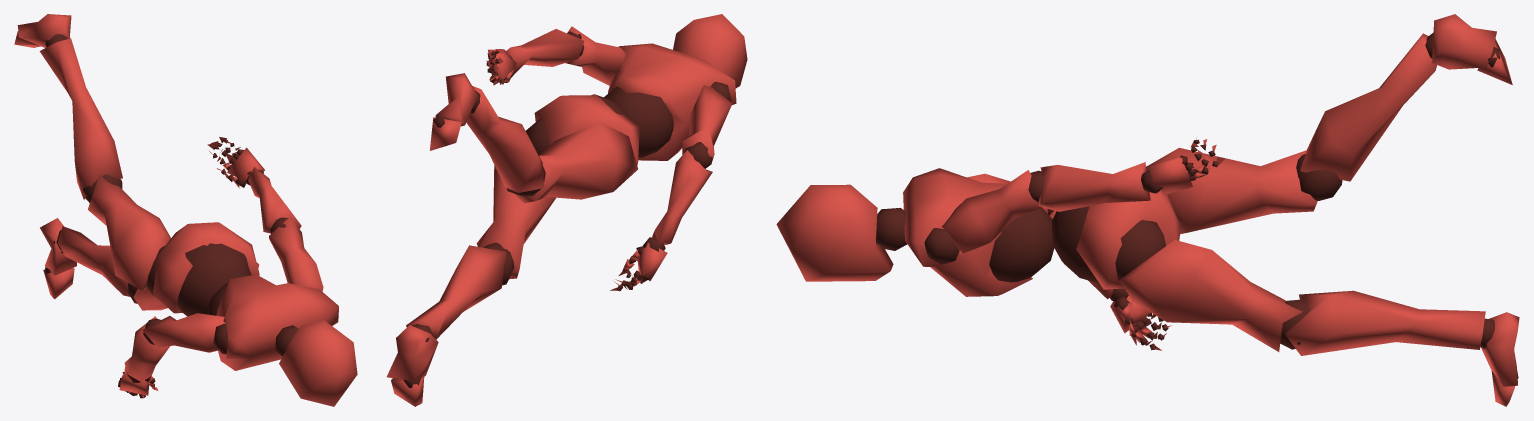
The picture shows the model from 3 angles, left to right: view 1: azimuth 30°, elevation 25°; view 2: azimuth 150°, elevation 25°; view 3: azimuth 270°, elevation 25°; orthographic projection. The views are drawn at different scales.
Visible parts, largest first — view 1: Beta_Surface, Beta_Joints; view 2: Beta_Surface, Beta_Joints; view 3: Beta_Surface, Beta_Joints.
Part boxes in pixels (x1,y1,x2,y2): Beta_Surface: (14, 14, 357, 406); Beta_Joints: (45, 34, 298, 398); Beta_Surface: (386, 14, 747, 406); Beta_Joints: (403, 31, 731, 388); Beta_Surface: (776, 14, 1519, 406); Beta_Joints: (876, 32, 1518, 378).
Bounding box in the file's own units: 0.566 × 0.9761 × 1.76.
